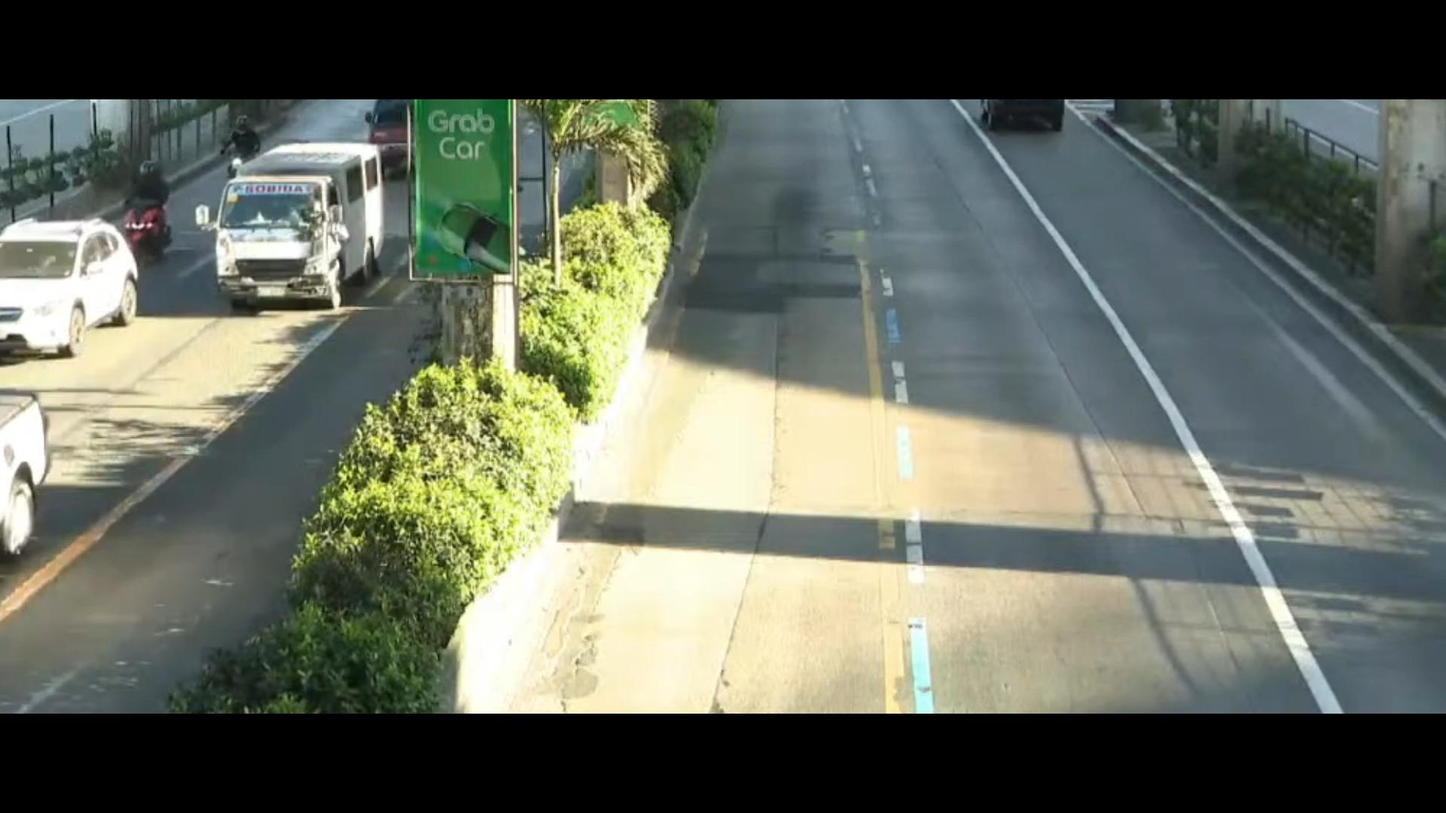Motorcycle: (115, 139, 191, 262), (228, 101, 269, 177)
Multicab: (200, 128, 402, 336)
Sedan: (0, 201, 164, 362)
